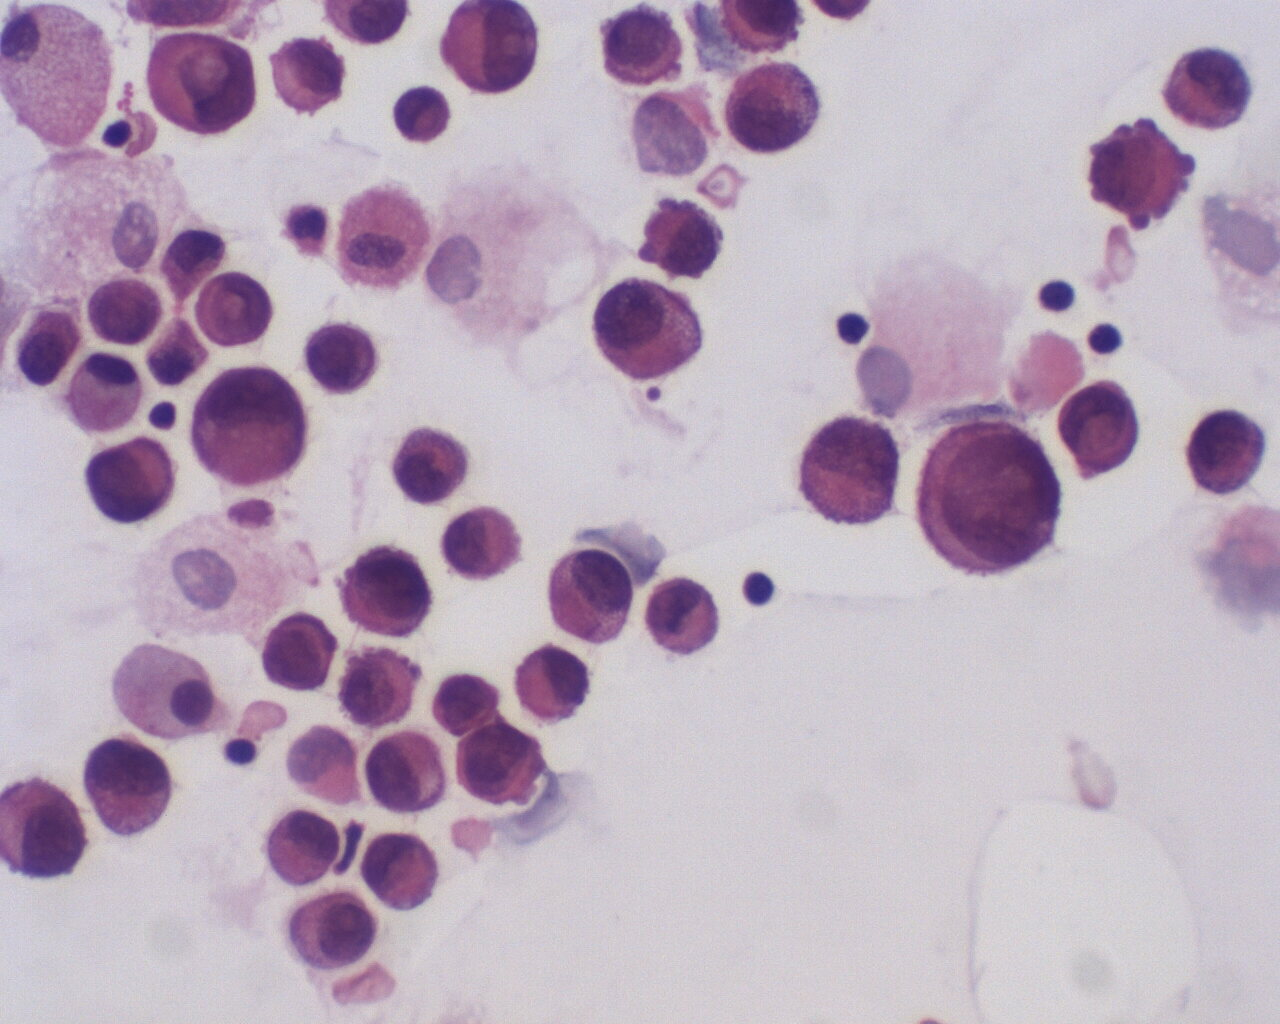ab: (913, 415, 1069, 586), (787, 393, 909, 542), (64, 430, 205, 534), (136, 29, 270, 138), (1078, 117, 1198, 233), (589, 273, 705, 387), (718, 52, 836, 158), (77, 734, 177, 840), (1052, 372, 1143, 483), (436, 1, 542, 95), (541, 543, 635, 646), (1, 776, 88, 886), (335, 542, 433, 638), (279, 886, 385, 974), (1162, 41, 1255, 136), (451, 725, 550, 809), (637, 193, 727, 284), (1182, 408, 1269, 501), (597, 1, 685, 91), (638, 572, 724, 664), (364, 730, 451, 818), (385, 422, 474, 507), (265, 33, 351, 118), (194, 267, 277, 355), (257, 607, 338, 695), (300, 318, 381, 396), (84, 273, 165, 347), (15, 305, 87, 386), (430, 671, 501, 740)
histo: (1, 4, 119, 152), (103, 637, 219, 739), (65, 349, 157, 434)
lymph: (1086, 317, 1130, 359), (1035, 272, 1079, 315), (737, 566, 777, 609), (834, 304, 872, 346)
